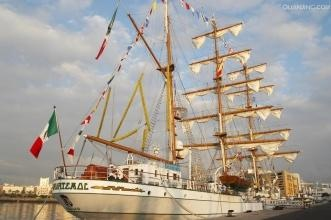fanchuan: (44, 1, 293, 217)
